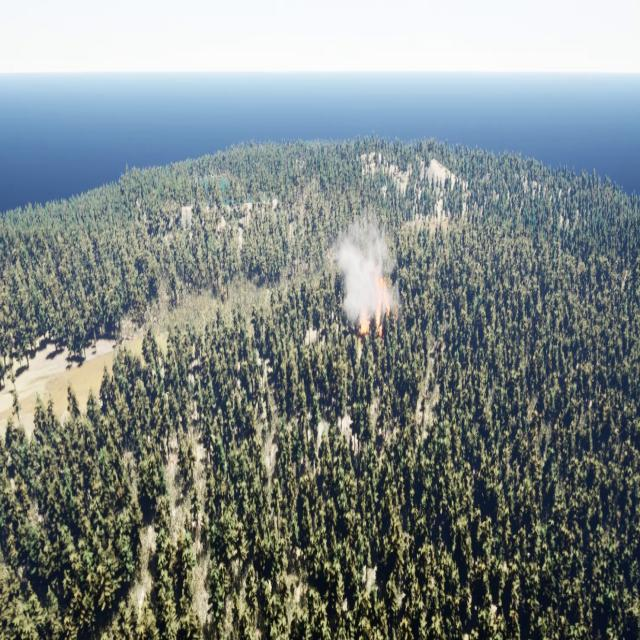fire: (358, 272, 388, 330)
smoke: (332, 222, 394, 324)
